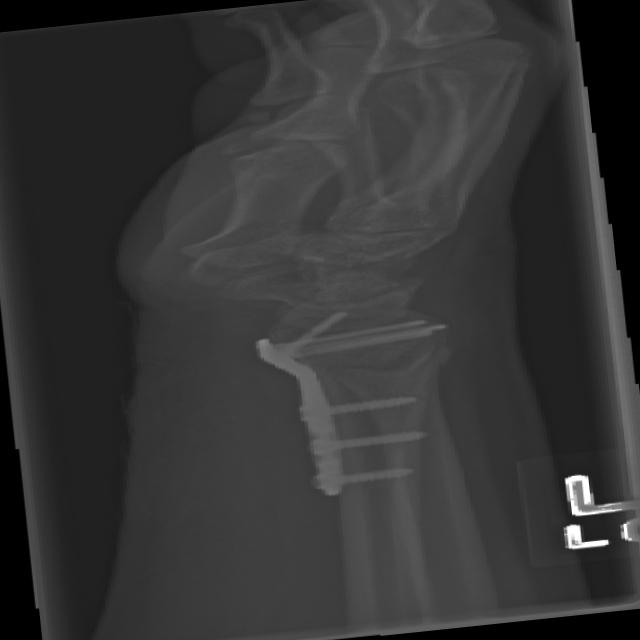wrist positive: (285, 311, 492, 410)
